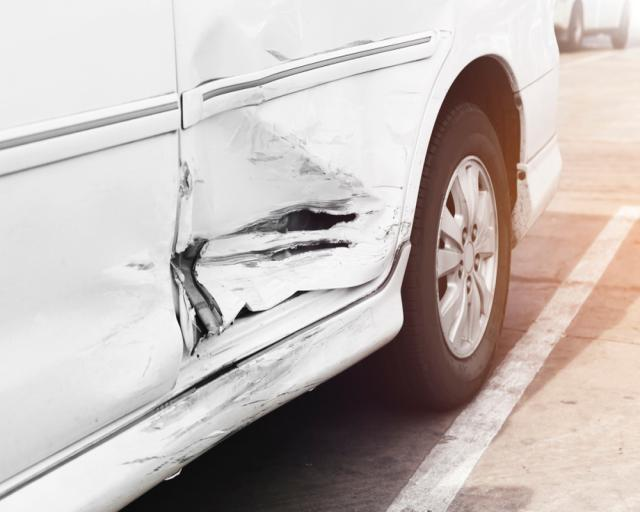crack: (174, 238, 223, 349), (276, 205, 359, 236), (268, 240, 355, 265)
dent: (182, 103, 393, 325), (187, 11, 314, 81)
scratch: (120, 321, 326, 492)
